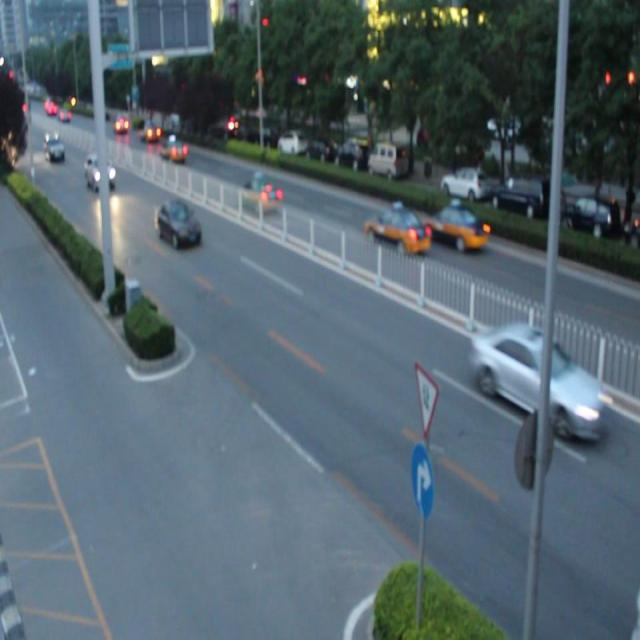car: (472, 323, 604, 443), (428, 201, 487, 255), (366, 205, 429, 252), (154, 200, 201, 250), (242, 174, 281, 215), (83, 154, 115, 192), (159, 136, 187, 162)
